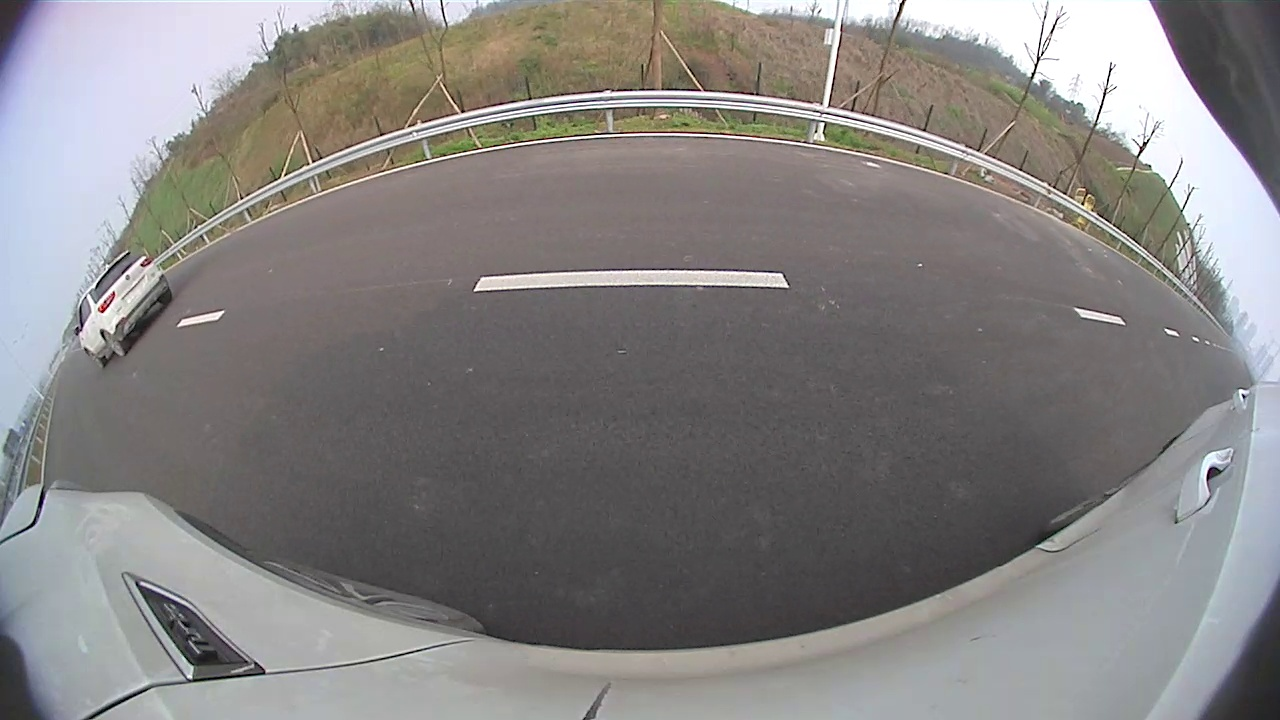car: (112, 118, 333, 289)
front: (182, 219, 230, 274)
rear: (126, 252, 157, 287)
